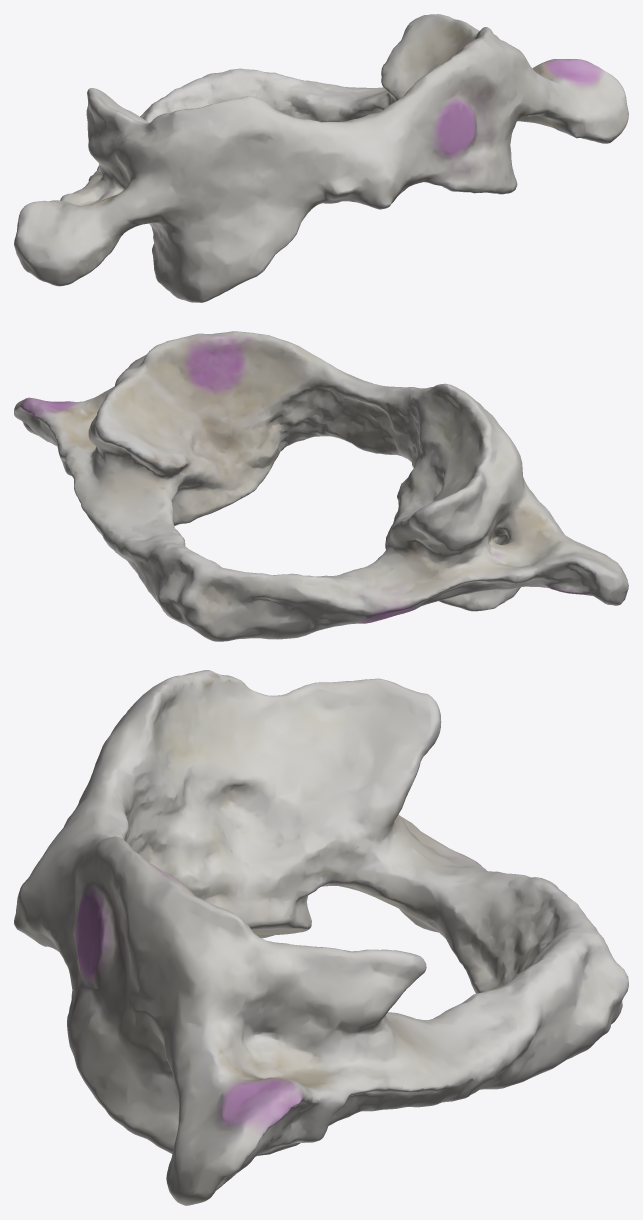
The model's file is atlas_vertebrae_labeled_final.glb.
3 renders of one model, top to bottom at view 1: azimuth 30°, elevation 25°; view 2: azimuth 150°, elevation 25°; view 3: azimuth 270°, elevation 25°, orthographic. The views are drawn at different scales.
Parts seen in each view (by area): view 1: Object_2; view 2: Object_2; view 3: Object_2.
Boxes of the visible parts, x1,y1,x2,y2 form: Object_2: (14, 14, 628, 302); Object_2: (14, 331, 628, 641); Object_2: (14, 670, 628, 1205).
Size of the model in its own units: 2.01 by 0.6005 by 1.13.
